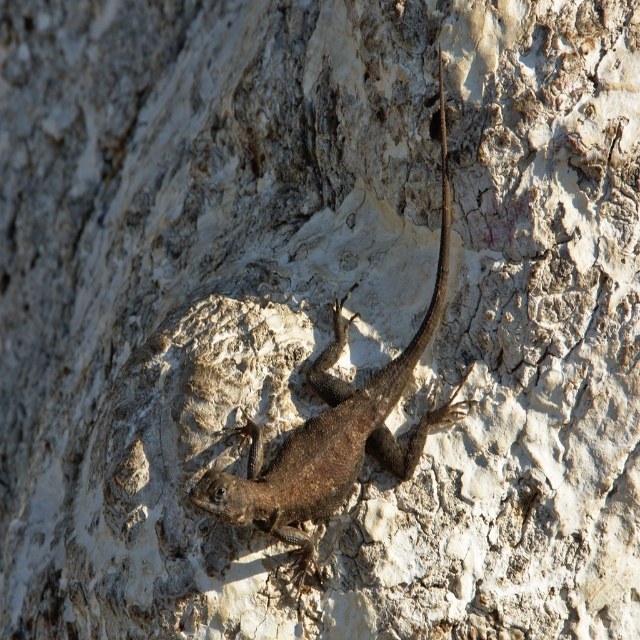Lizard: (196, 168, 466, 579)
